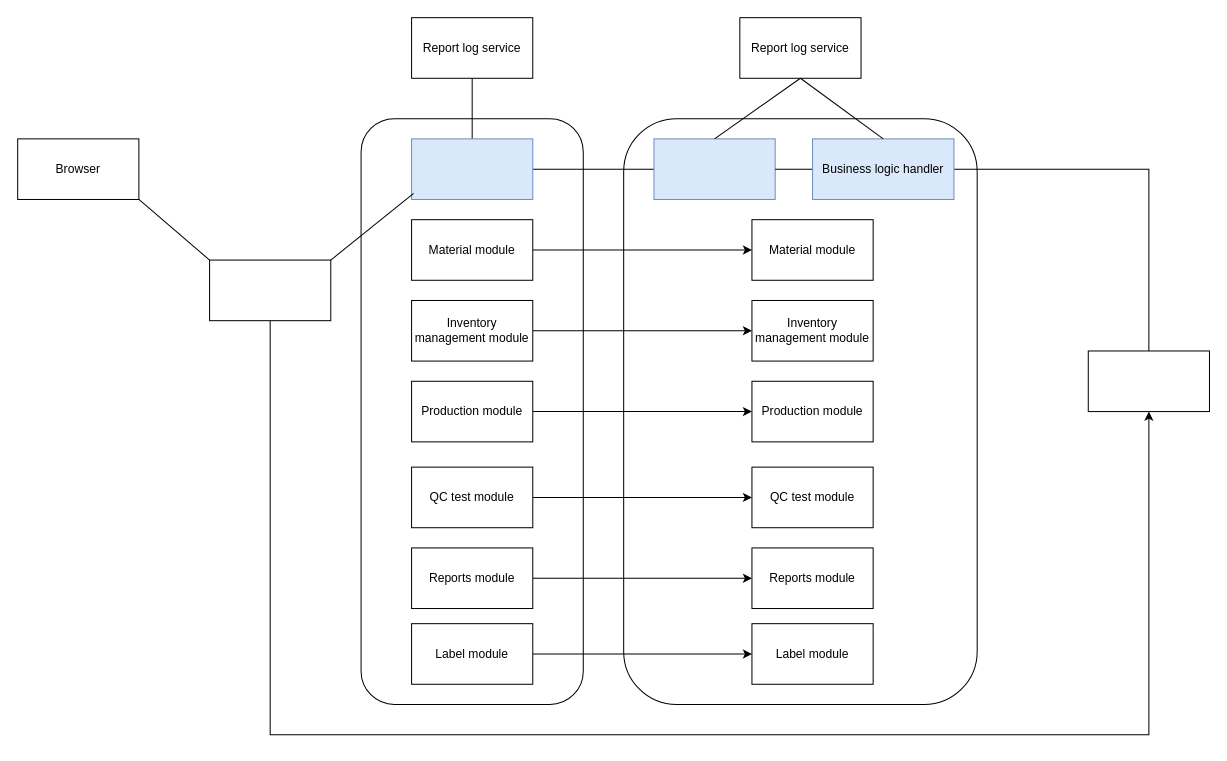
The diagram is 1227 pixels wide and 761 high, and some of its shapes have lost their labels. The centre of each missing label's shape, as x and y in pixels:
"API routes (Java Spring boot)" belongs at (714,168).
"Authorization (Keycloak)" belongs at (270,290).
"Database (mysql)" belongs at (1148,381).
"Frontend server (React + tailwind)" belongs at (472,168).
